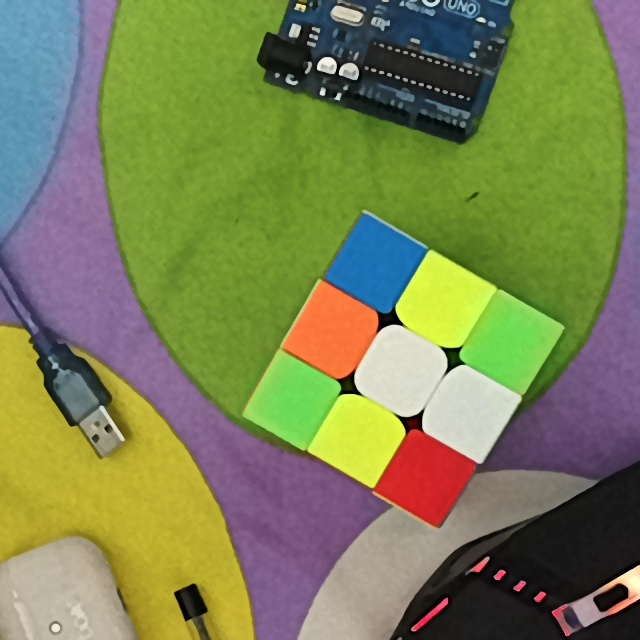tile: (443, 385, 498, 440), (413, 277, 471, 328), (486, 315, 540, 369), (401, 450, 455, 503), (304, 309, 359, 360), (374, 347, 427, 399), (265, 377, 316, 429), (332, 415, 389, 461), (346, 245, 403, 290)
